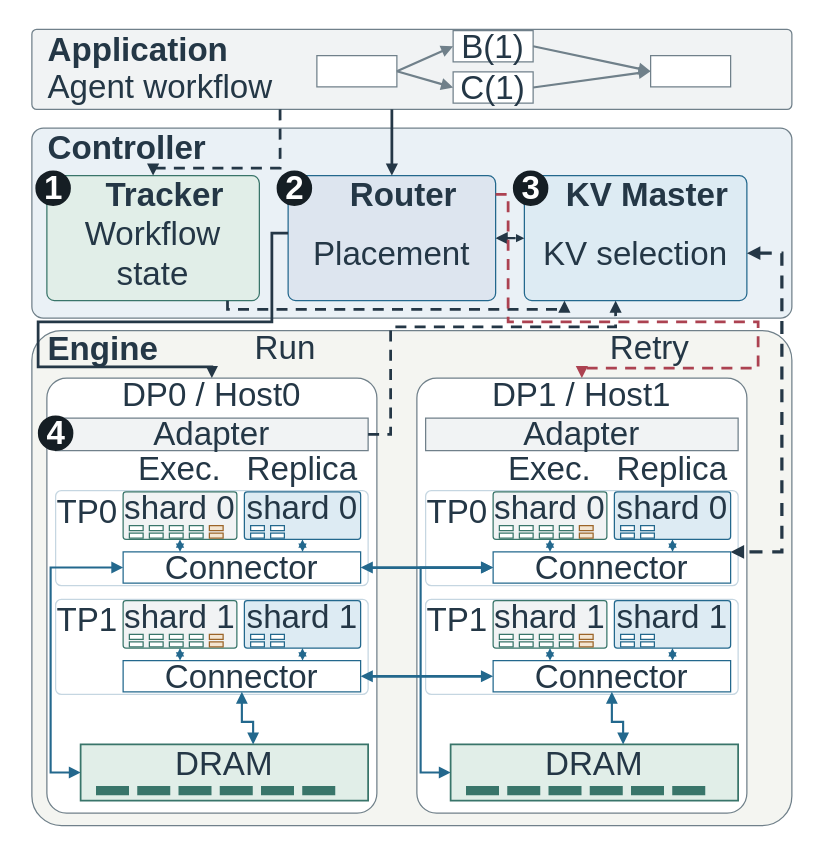
Image size: 823x855. Some labels were removed from this diagram. The box of each missing label's shape, as (x1, y1, x2, y2) in pixels:
A(1): (316, 54, 397, 87)
A(2): (649, 54, 731, 87)
